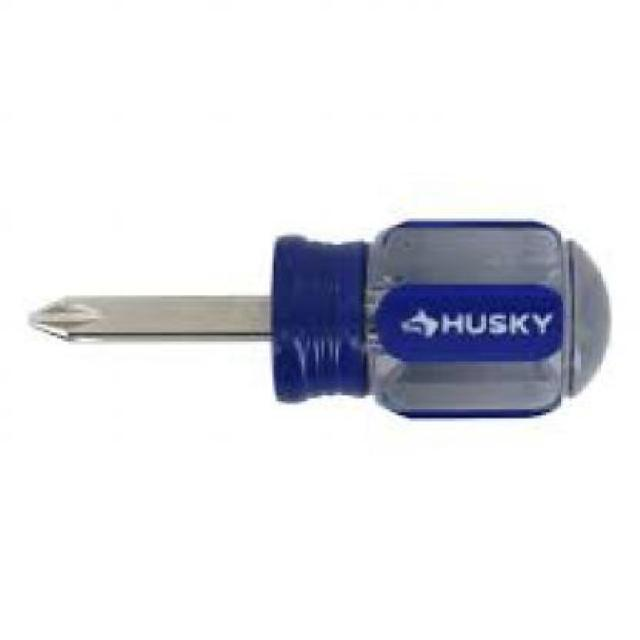screwdriver: (26, 211, 620, 415)
